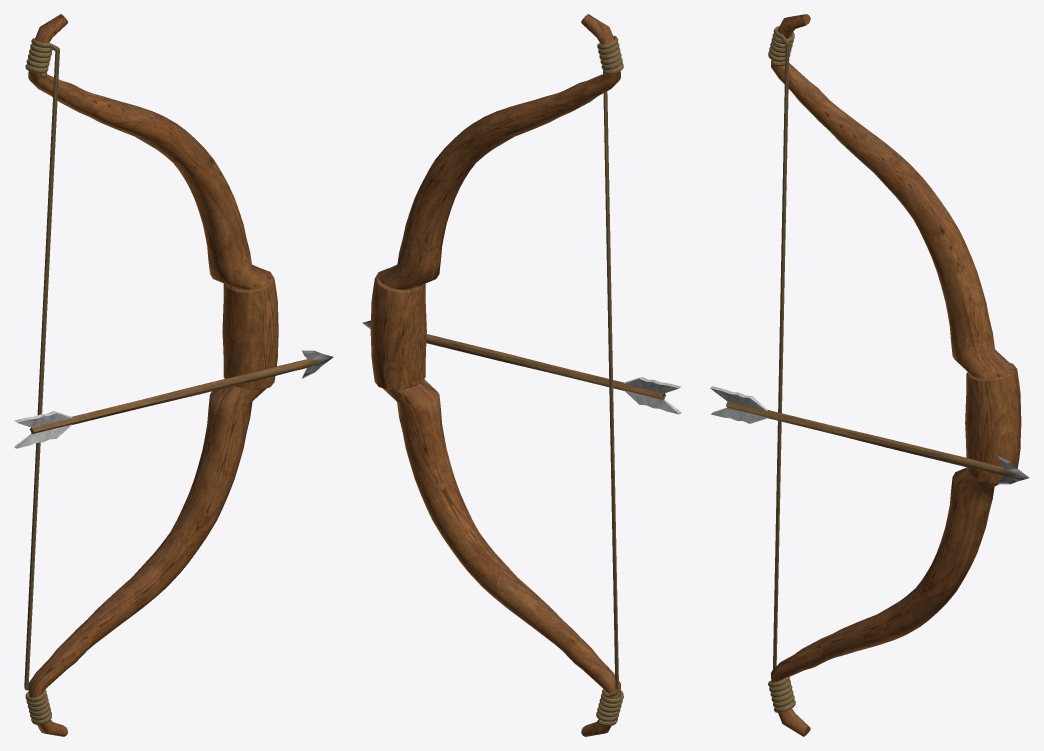
The model's file is ITM_OFFENSIVE_BOW.fbx.
3 renders of one model, left to right at view 1: azimuth 30°, elevation 25°; view 2: azimuth 150°, elevation 25°; view 3: azimuth 330°, elevation 25°, orthographic.
Visible parts, largest first — view 1: bow, string3, arrow; view 2: bow, string3, arrow; view 3: bow, string3, arrow.
Boxes of the visible parts, x1,y1,x2,y2 form: bow: [28, 14, 278, 736]; string3: [24, 38, 59, 724]; arrow: [14, 350, 333, 448]; bow: [370, 14, 620, 736]; string3: [596, 35, 623, 726]; arrow: [362, 320, 681, 414]; bow: [771, 14, 1021, 736]; string3: [768, 26, 795, 712]; arrow: [710, 386, 1029, 484].
Size of the model in its own units: 82.59 by 179 by 17.76.
